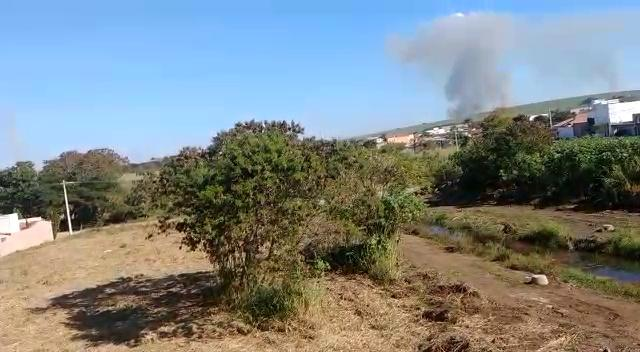smoke: (452, 25, 506, 101)
